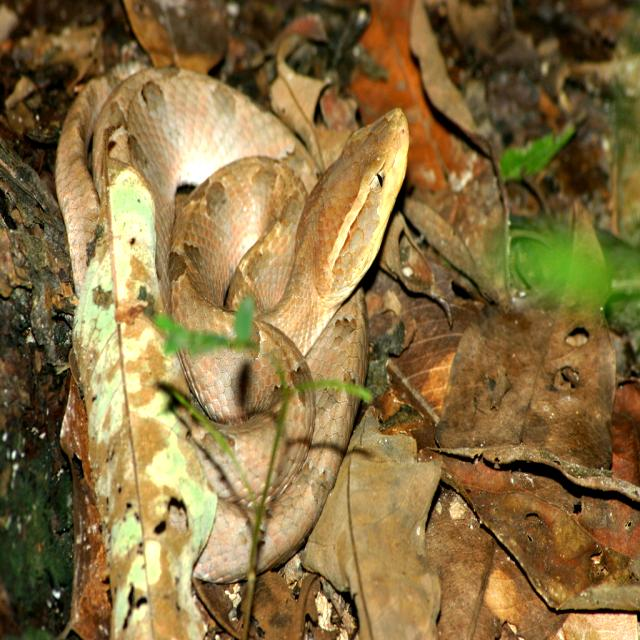Calloselasma rhodostoma: (56, 69, 408, 383)
